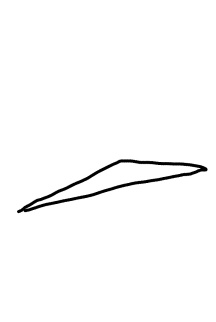Triangle: (14, 156, 208, 216)
